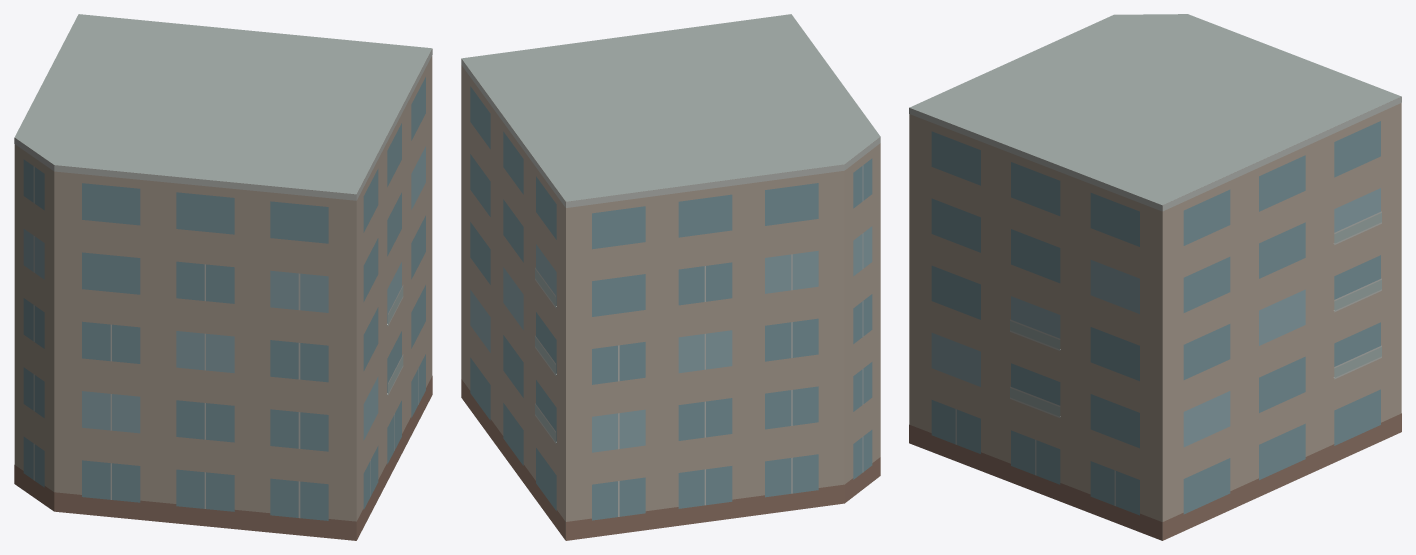
The model's file is survey-upis-32712322.glb.
3 renders of one model, left to right at view 1: azimuth 30°, elevation 25°; view 2: azimuth 150°, elevation 25°; view 3: azimuth 270°, elevation 25°, orthographic. The views are drawn at different scales.
Parts seen in each view (by area): view 1: survey-upis-32712322.tmp; view 2: survey-upis-32712322.tmp; view 3: survey-upis-32712322.tmp.
Part boxes in pixels (bbox=[...]): survey-upis-32712322.tmp: bbox=[14, 14, 432, 540]; survey-upis-32712322.tmp: bbox=[461, 14, 880, 540]; survey-upis-32712322.tmp: bbox=[909, 14, 1401, 540].
Size of the model in its own units: 16.03 by 13.1 by 17.43.
